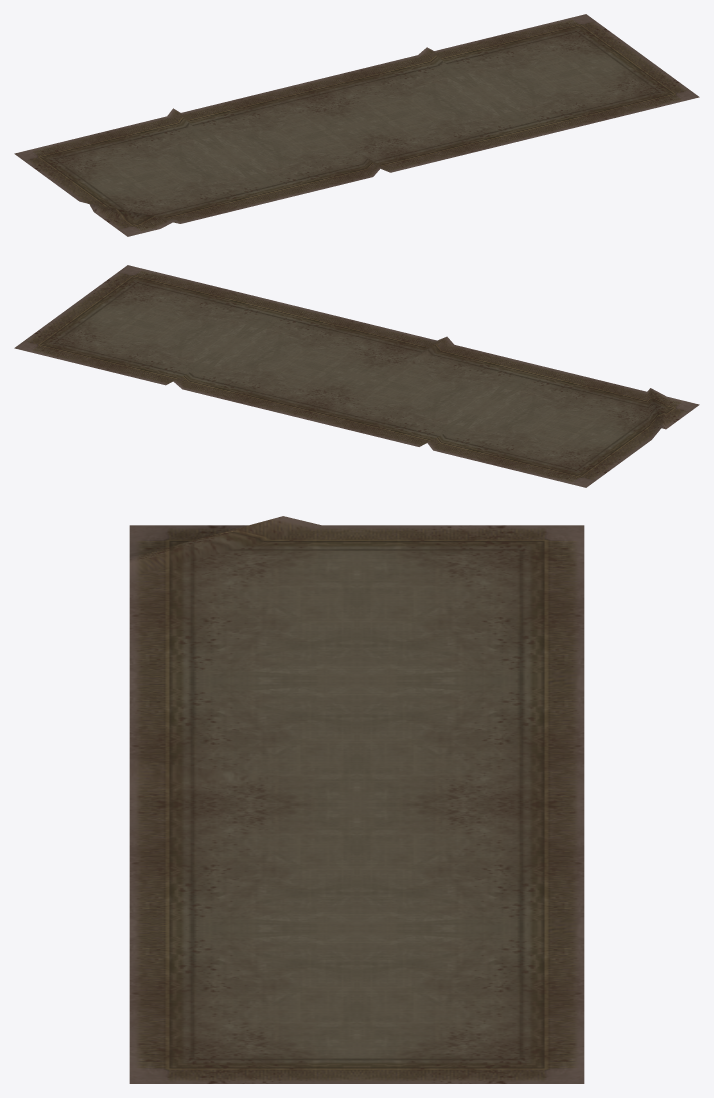
File: Carpet_square4_2.fbx
3 views of the same model, one above another, from view 1: azimuth 30°, elevation 25°; view 2: azimuth 150°, elevation 25°; view 3: azimuth 270°, elevation 25° (orthographic). The views are drawn at different scales.
Visible parts, largest first — view 1: Carpet_square4_2; view 2: Carpet_square4_2; view 3: Carpet_square4_2.
Part boxes in pixels (x1=…): Carpet_square4_2: x1=14, y1=14, x2=699, y2=236; Carpet_square4_2: x1=14, y1=265, x2=699, y2=487; Carpet_square4_2: x1=129, y1=516, x2=584, y2=1083.
Bounding box in the file's own units: 7.8 × 0.0848 × 2.69.
Materials: 1 (1 with a texture image).
